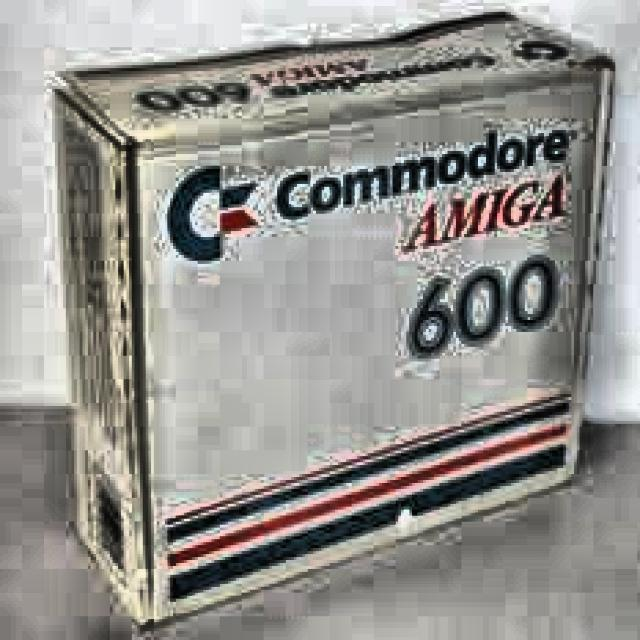cardboard: (47, 6, 616, 628)
